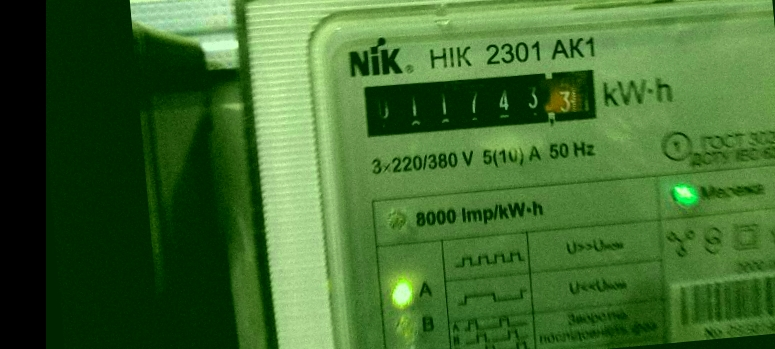0: (376, 93, 392, 122)
1: (436, 88, 451, 117), (407, 90, 420, 118)
3: (525, 82, 542, 111), (557, 89, 573, 115)
4: (495, 85, 512, 113)
7: (465, 85, 483, 114)
screen: (352, 54, 611, 151)
